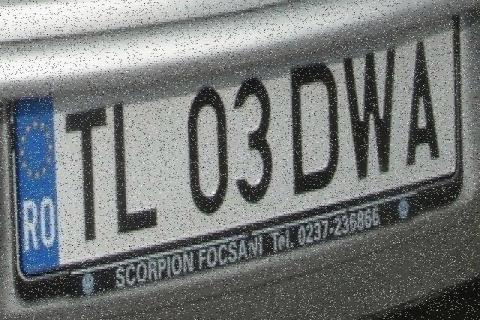LicensePlate: (4, 24, 471, 306)
